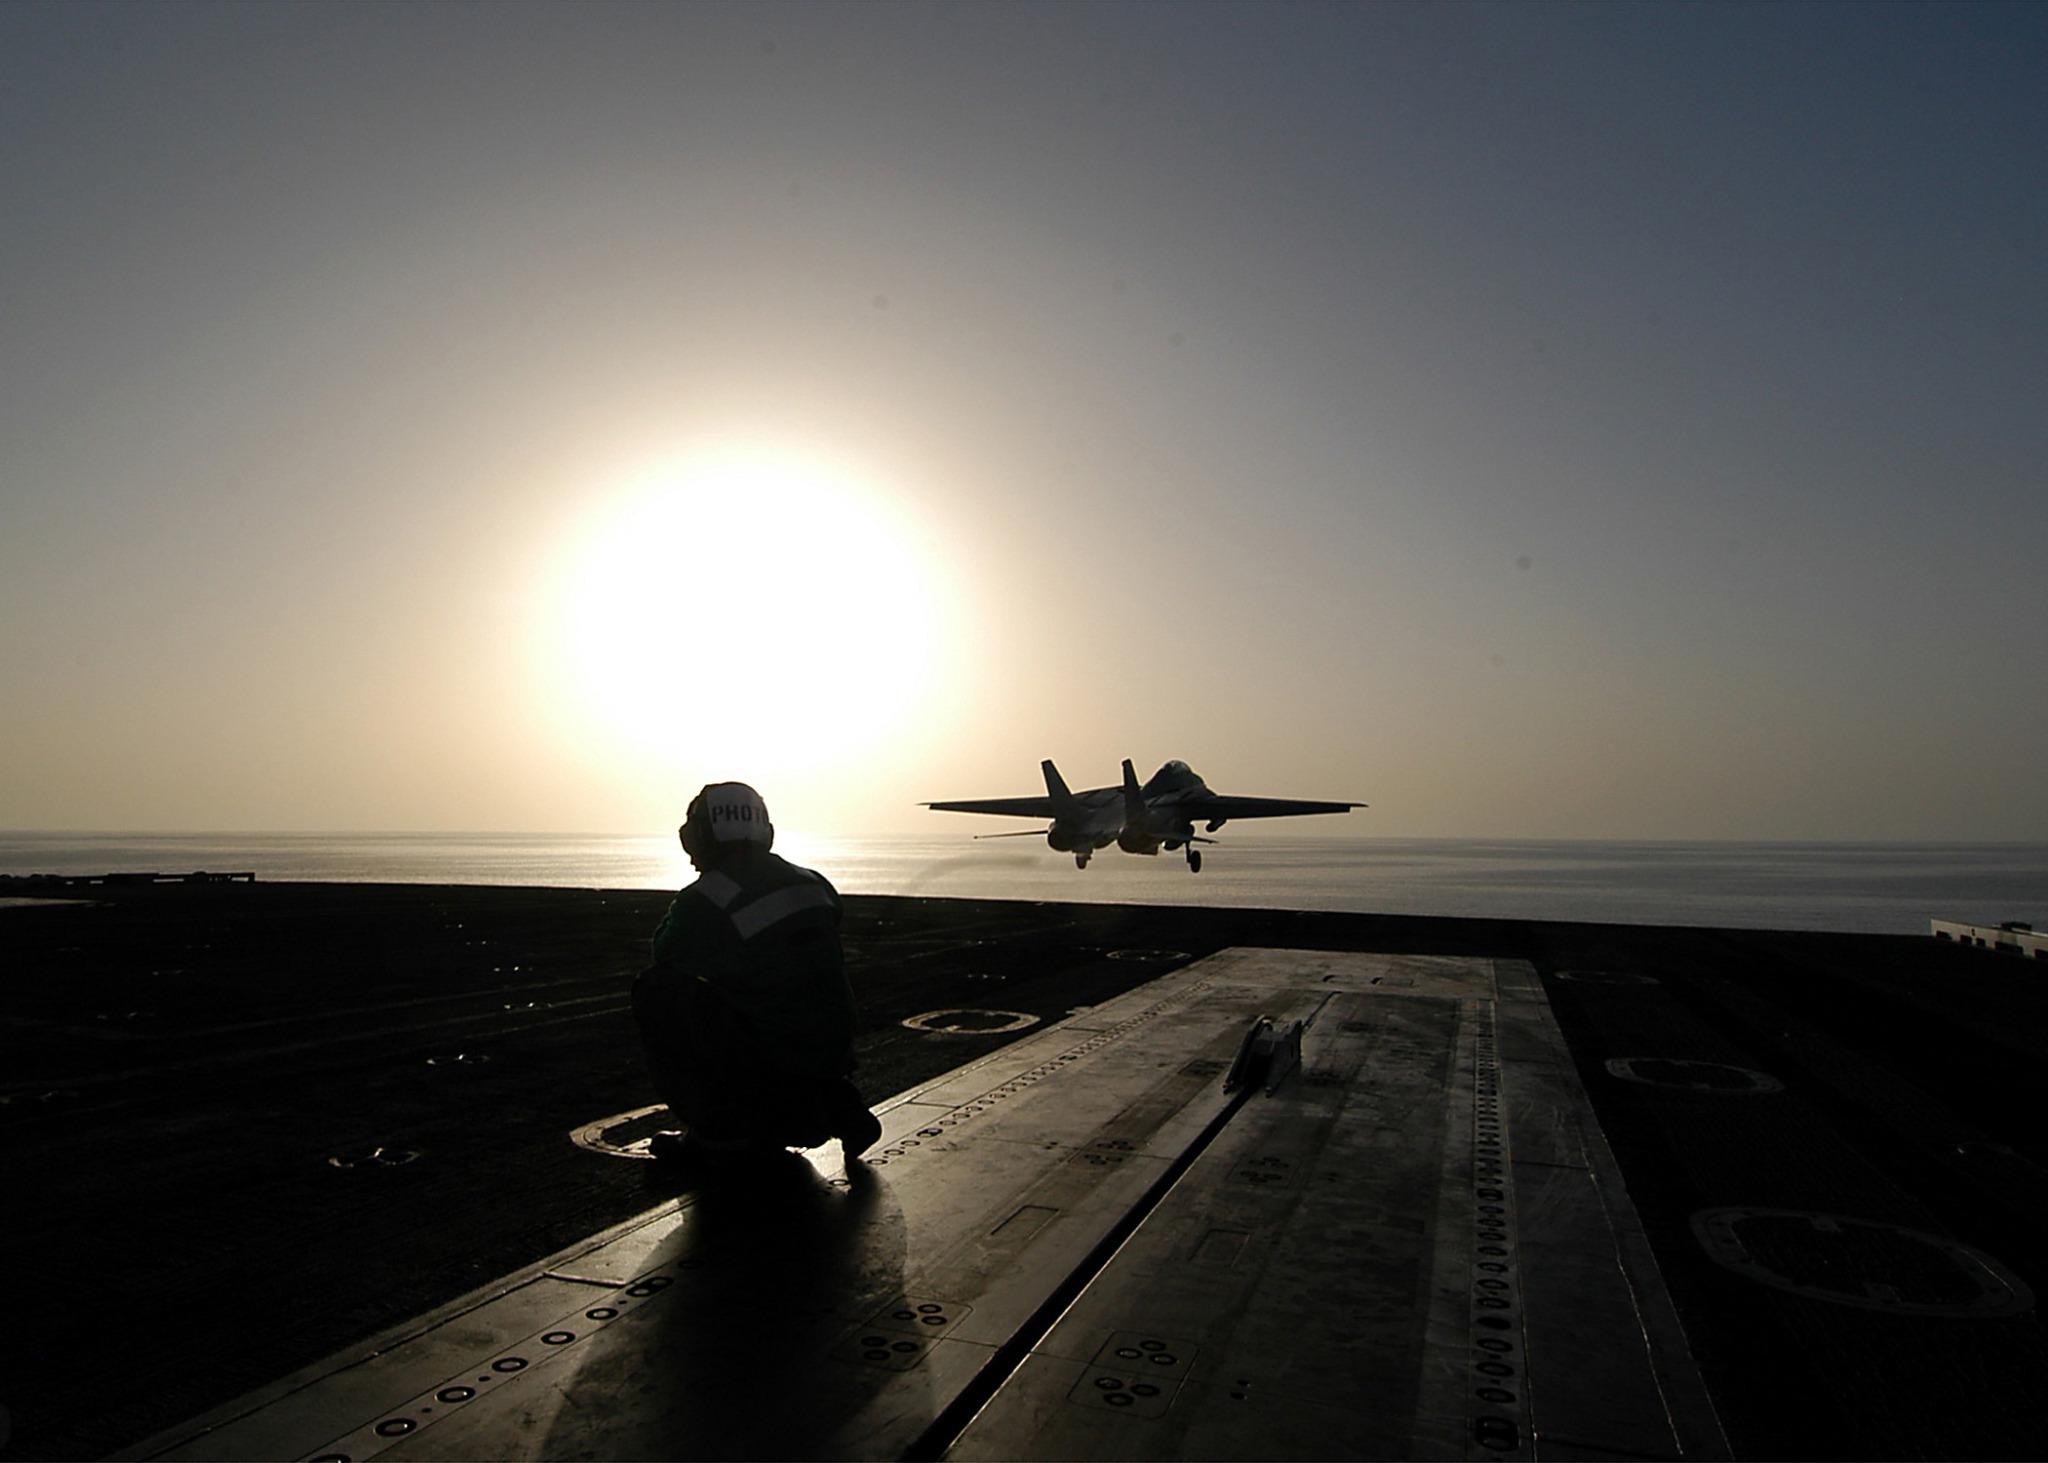F14: (912, 757, 1369, 874)
